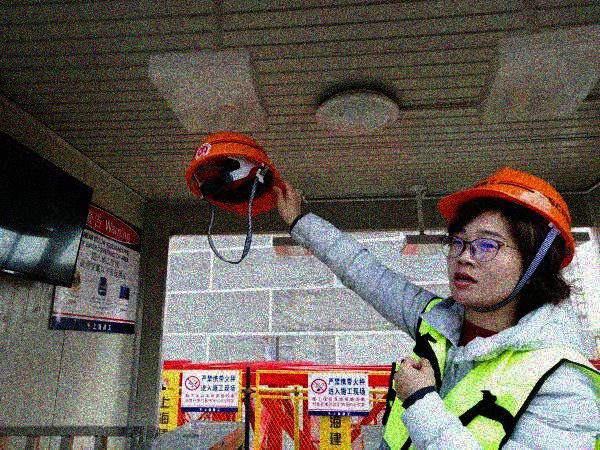helmet: (437, 166, 577, 308)
